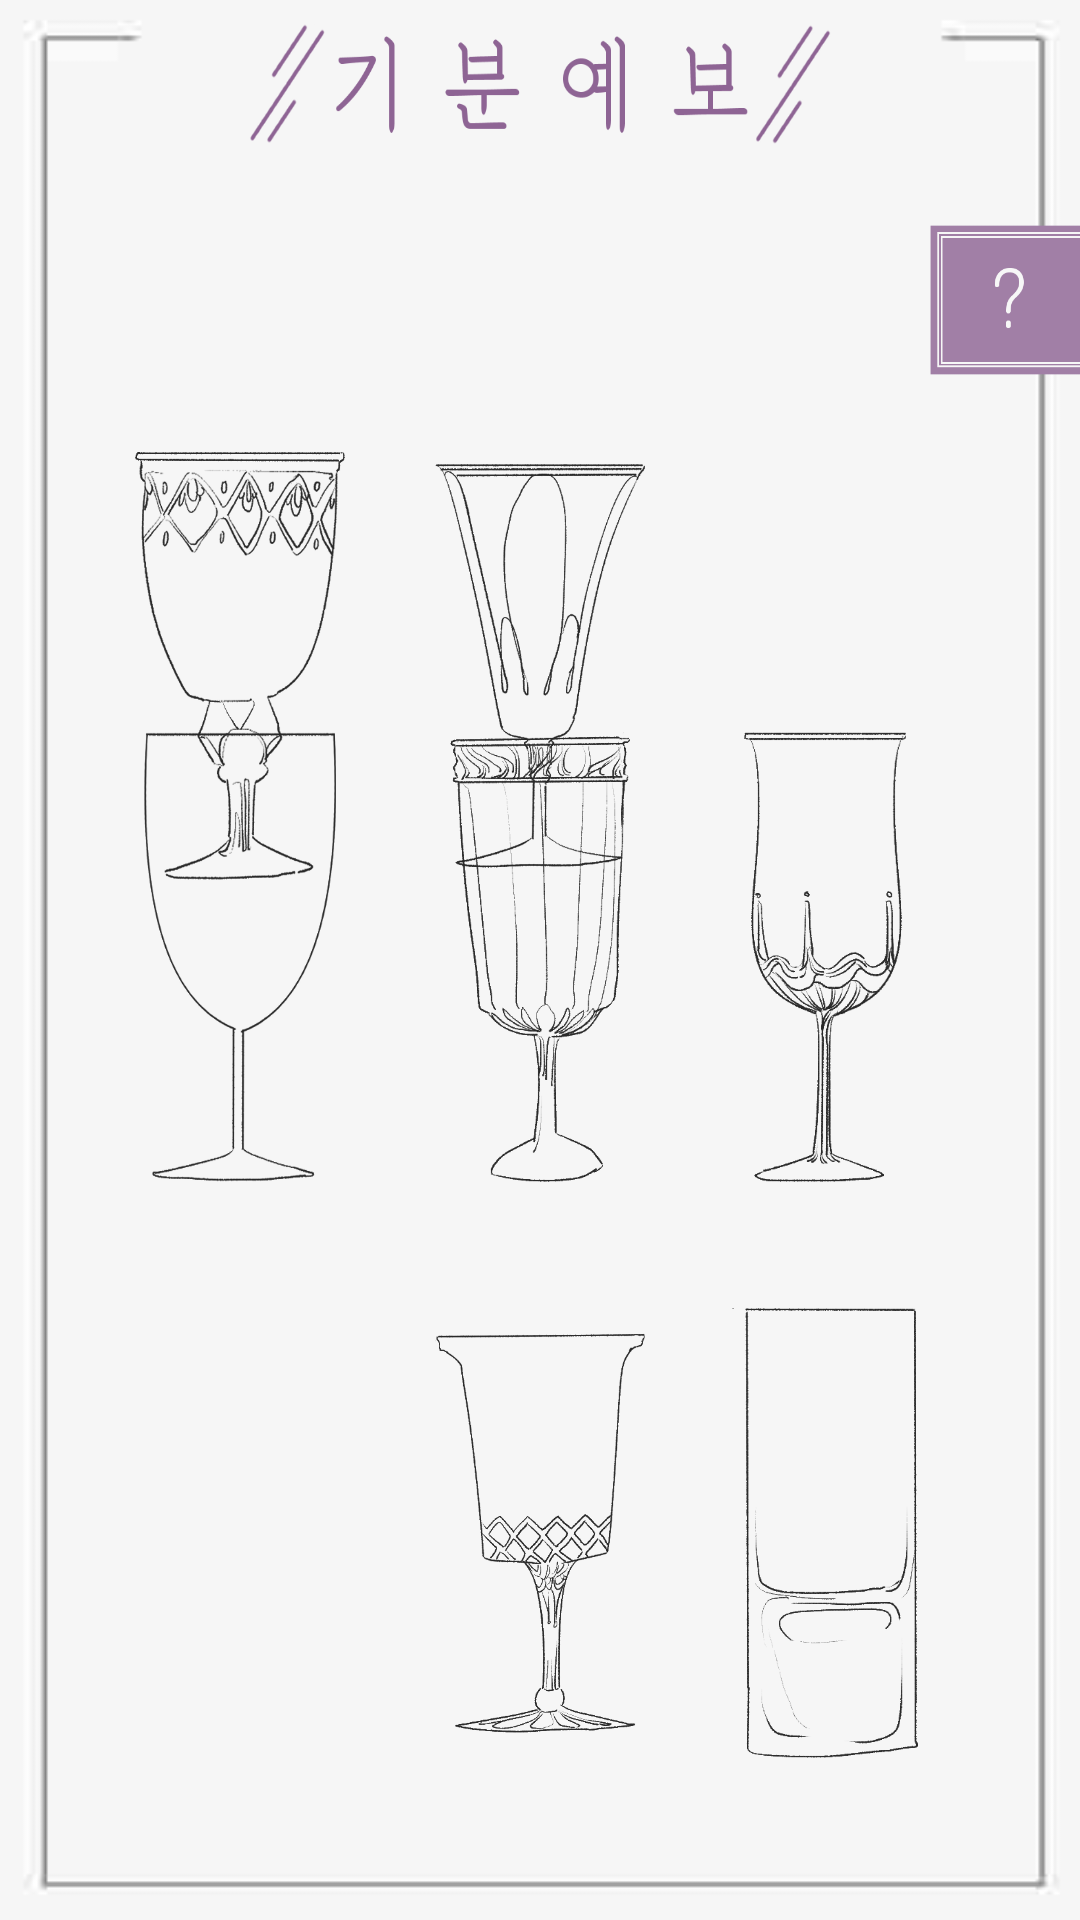

Named icons in this screenshot (1080*1920) and their centers, point (x, y):
question cups: point (1009, 300)
